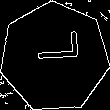L_W: (29, 40, 80, 74)
